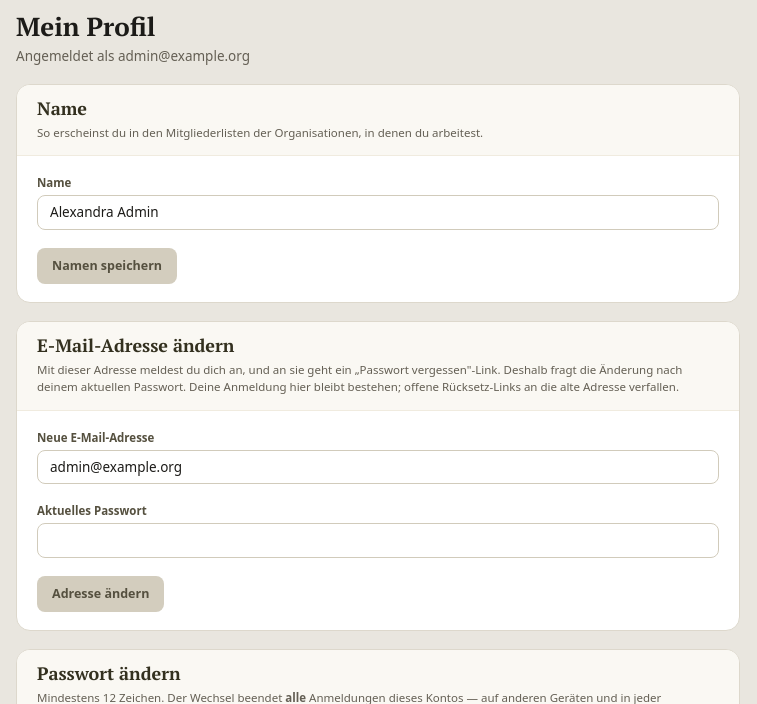
ProfileView › E-Mail-Adresse ändern (Befund 8) › zeigt die 409 des Servers, wenn die Adresse schon jemandem gehört
This screenshot has width=757, height=704.
Replace the text in the field labelled "Neue E-Mail-Adresse" with "belegt@example.org": (378, 467) [37,450,719,484]
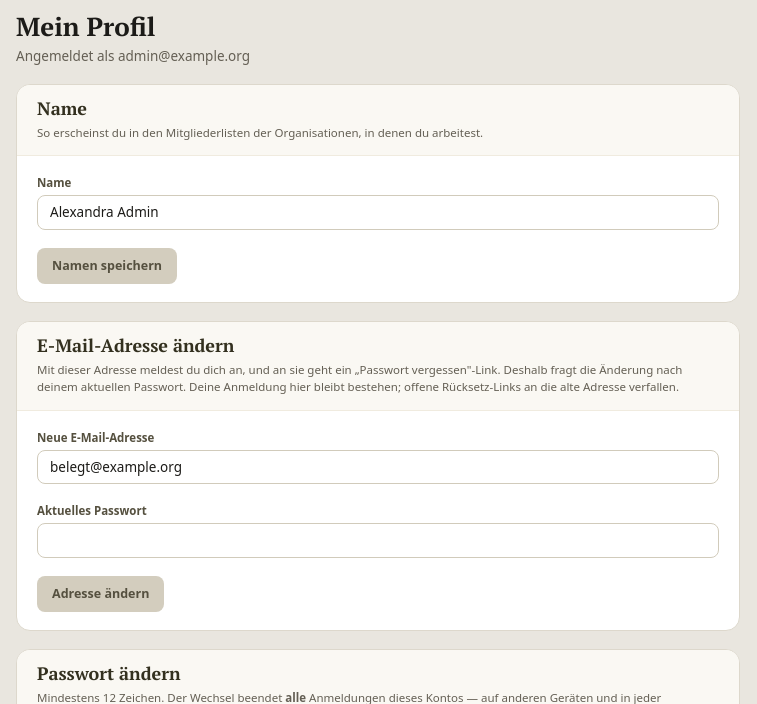
In the password field labelled "Aktuelles Passwort": (378, 540) [37,523,719,558], type "mein-passwort"
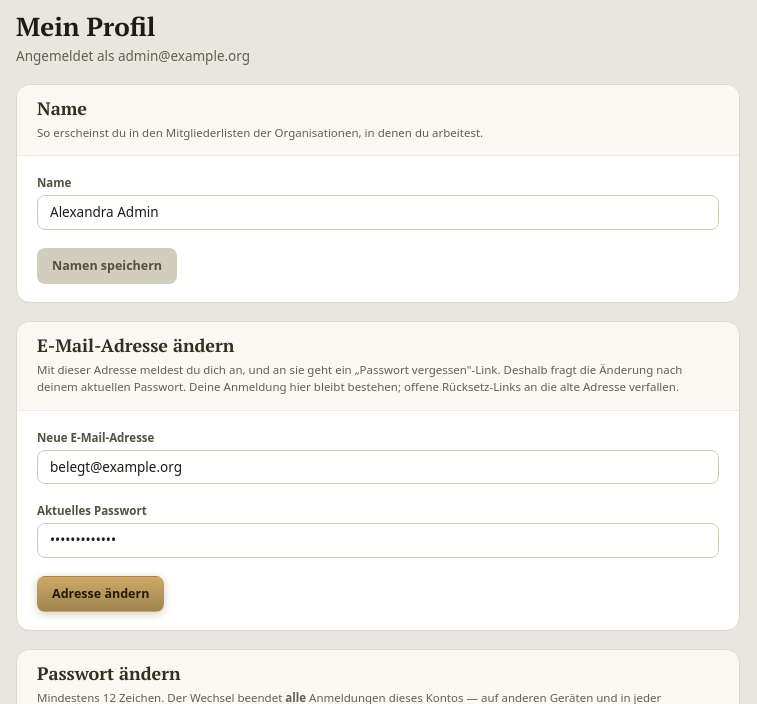
Click the button "Adresse ändern": (101, 594) [37,576,164,612]
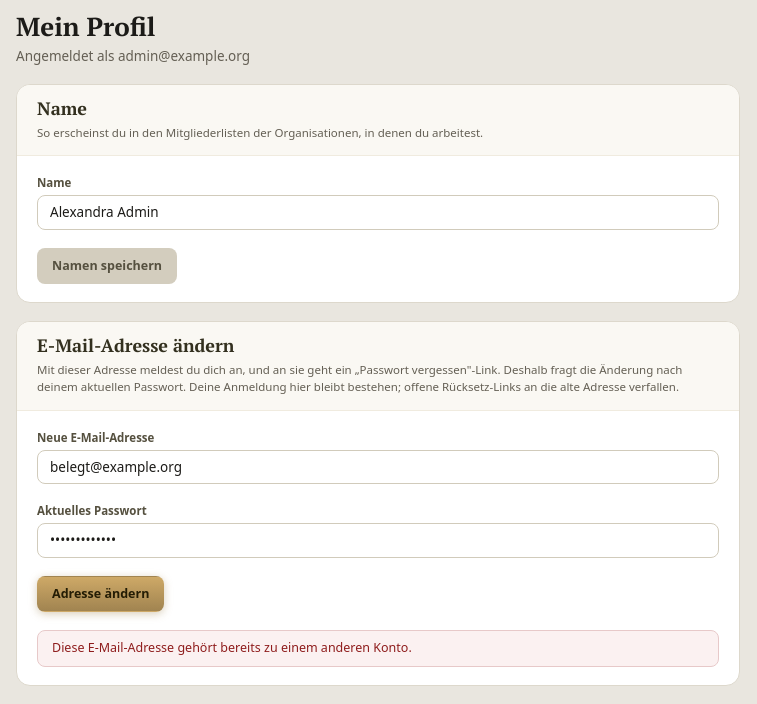
Expected: the text "Diese E-Mail-Adresse gehört bereits zu einem anderen Konto." is shown, [37,630,719,667]
